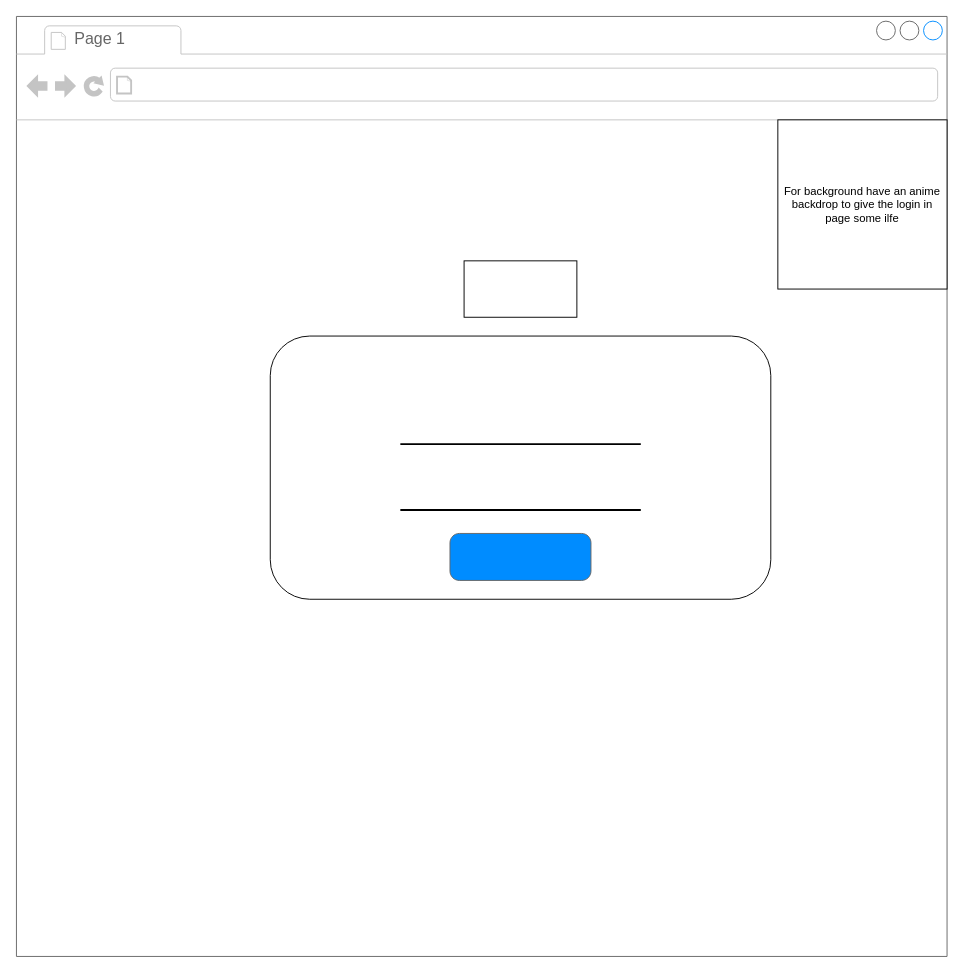
Some shapes in this 964 by 973 pixel diagram are drawn without their labels. The centre of each missing label's shape, as x and y in pixels:
"https://www.draw.io" goes at point 256,84.
"Login" goes at point 520,556.
